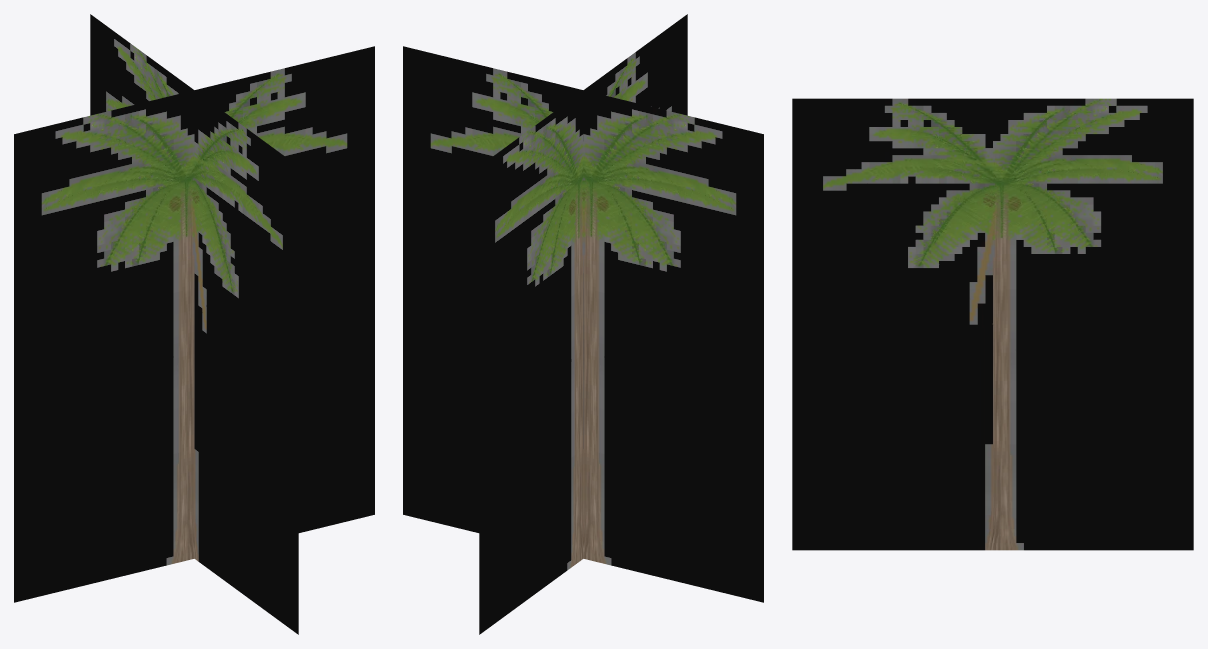
Rendered from palm_medium_far.glb.
3 views of the same model, side by side, from view 1: azimuth 30°, elevation 25°; view 2: azimuth 150°, elevation 25°; view 3: azimuth 270°, elevation 25° (orthographic). The views are drawn at different scales.
Parts seen in each view (by area): view 1: impostor; view 2: impostor; view 3: impostor.
Boxes of the visible parts, bbox=[...] form: impostor: bbox=[14, 14, 374, 634]; impostor: bbox=[403, 14, 763, 634]; impostor: bbox=[792, 98, 1193, 550].
Bounding box in the file's own units: 7.03 × 8.72 × 7.03.
Materials: 1 (1 with a texture image).
